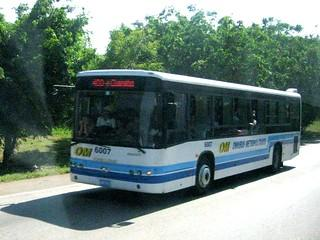bus: (68, 70, 306, 200)
